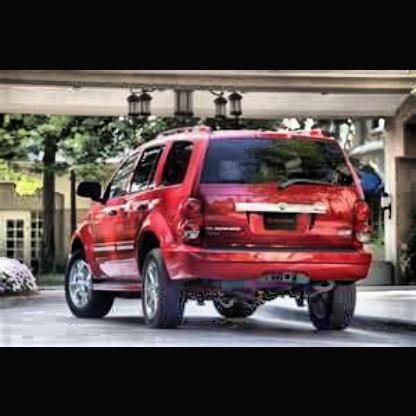Dodge Durango SUV 2007: (47, 98, 406, 347)
